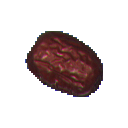gd: (10, 24, 115, 103)
